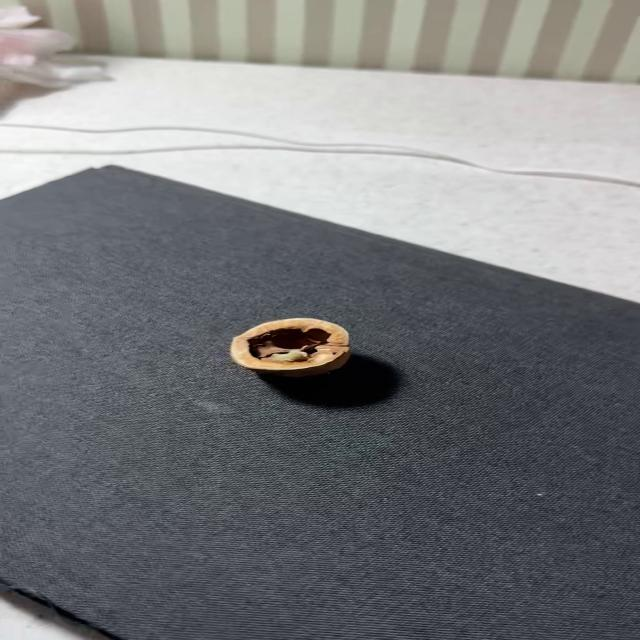nuts-bad0.5: (231, 319, 350, 377)
